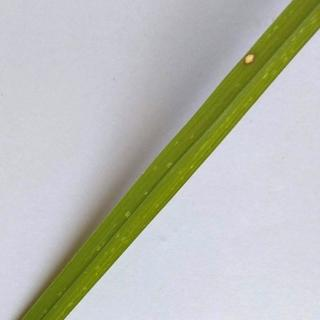Blast: (225, 38, 284, 112)
